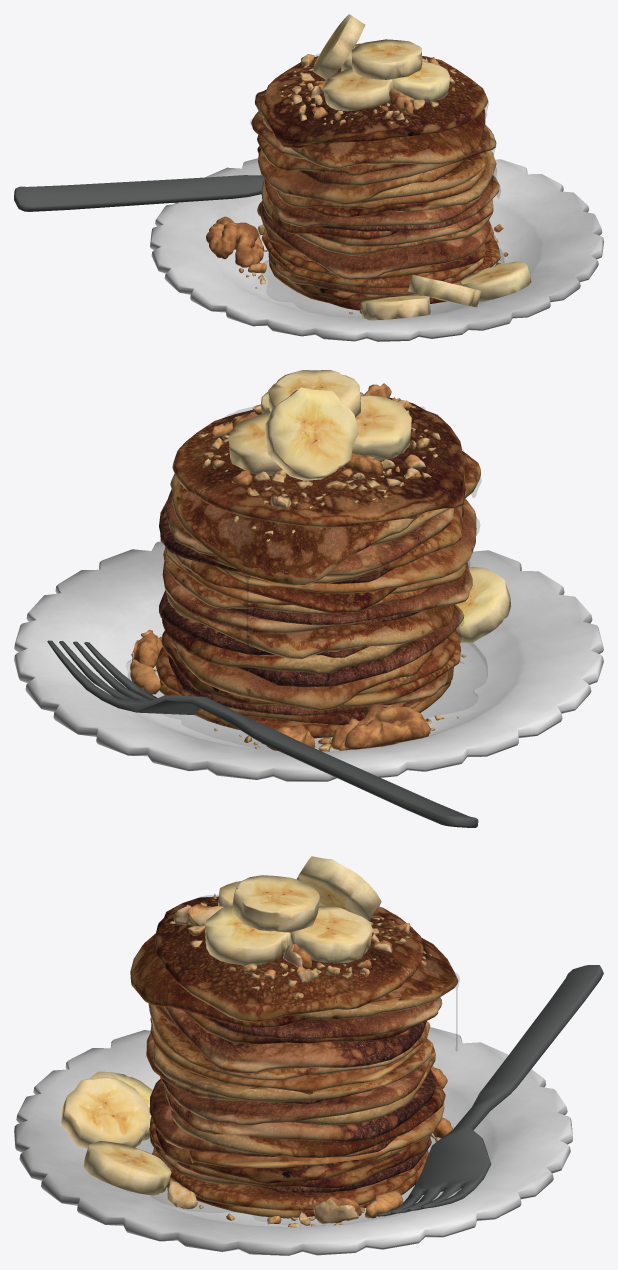
File: food_pancake.obj
3 renders of one model, top to bottom at view 1: azimuth 30°, elevation 25°; view 2: azimuth 150°, elevation 25°; view 3: azimuth 270°, elevation 25°, orthographic. The views are drawn at different scales.
Parts seen in each view (by area): view 1: Mesh148 Group1 Model, Mesh135 Group1 Model, Mesh149 Group1 Model, Mesh140 Group1 Model, Mesh133 Group1 Model, Mesh127 Group1 Model, Mesh131 Group1 Model, Mesh168 Group1 Model, Mesh167 Group1 Model, Mesh7 Group1 Model, Mesh137 Group1 Model, Mesh128 Group1 Model (+19 smaller); view 2: Mesh148 Group1 Model, Mesh135 Group1 Model, Mesh147 Group1 Model, Mesh149 Group1 Model, Mesh172 Group1 Model, Mesh141 Group1 Model, Mesh130 Group1 Model, Mesh127 Group1 Model, Mesh134 Group1 Model, Mesh131 Group1 Model, Mesh133 Group1 Model, Mesh132 Group1 Model (+21 smaller); view 3: Mesh148 Group1 Model, Mesh135 Group1 Model, Mesh149 Group1 Model, Mesh137 Group1 Model, Mesh129 Group1 Model, Mesh171 Group1 Model, Mesh144 Group1 Model, Mesh168 Group1 Model, Mesh139 Group1 Model, Mesh134 Group1 Model, Mesh128 Group1 Model, Mesh132 Group1 Model (+23 smaller).
Part boxes in pixels (box(x1,y1,x2,y2)): Mesh148 Group1 Model: box(150, 158, 603, 341); Mesh135 Group1 Model: box(259, 56, 488, 147); Mesh149 Group1 Model: box(14, 175, 264, 211); Mesh140 Group1 Model: box(263, 109, 485, 168); Mesh133 Group1 Model: box(261, 203, 490, 279); Mesh127 Group1 Model: box(258, 150, 467, 204); Mesh131 Group1 Model: box(265, 179, 481, 227); Mesh168 Group1 Model: box(351, 39, 422, 79); Mesh167 Group1 Model: box(323, 68, 392, 111); Mesh7 Group1 Model: box(206, 216, 264, 267); Mesh137 Group1 Model: box(298, 124, 496, 185); Mesh128 Group1 Model: box(305, 150, 496, 217); Mesh148 Group1 Model: box(14, 541, 603, 781); Mesh135 Group1 Model: box(172, 397, 465, 527); Mesh147 Group1 Model: box(170, 473, 421, 586); Mesh149 Group1 Model: box(47, 640, 478, 827); Mesh172 Group1 Model: box(264, 387, 358, 480); Mesh141 Group1 Model: box(166, 592, 454, 658); Mesh130 Group1 Model: box(170, 639, 434, 711); Mesh127 Group1 Model: box(215, 498, 476, 593); Mesh134 Group1 Model: box(162, 619, 415, 674); Mesh131 Group1 Model: box(226, 562, 472, 625); Mesh133 Group1 Model: box(237, 604, 464, 686); Mesh132 Group1 Model: box(165, 489, 454, 576); Mesh148 Group1 Model: box(14, 1027, 572, 1255); Mesh135 Group1 Model: box(155, 896, 423, 1022); Mesh149 Group1 Model: box(377, 965, 603, 1216); Mesh137 Group1 Model: box(164, 1007, 426, 1073); Mesh129 Group1 Model: box(160, 1054, 431, 1125); Mesh171 Group1 Model: box(61, 1077, 150, 1148); Mesh144 Group1 Model: box(163, 1070, 436, 1141); Mesh168 Group1 Model: box(232, 875, 319, 932); Mesh139 Group1 Model: box(153, 1148, 424, 1210); Mesh134 Group1 Model: box(170, 1069, 445, 1157); Mesh128 Group1 Model: box(153, 1039, 432, 1101); Mesh132 Group1 Model: box(201, 997, 442, 1038).
Bounding box in the file's own units: 0.215 × 0.1163 × 0.2023.
